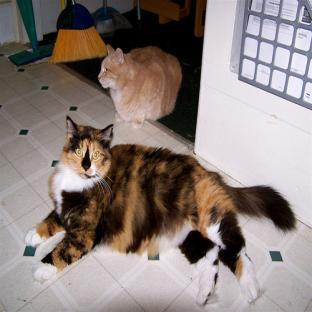Animal: (25, 116, 295, 305), (98, 45, 182, 127)
